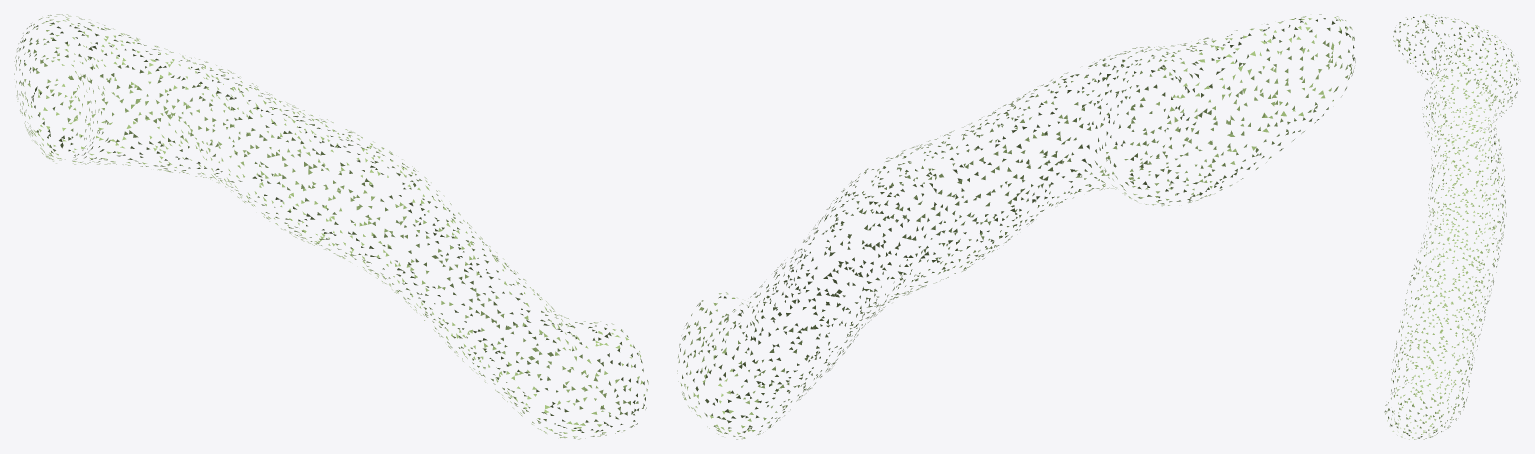
Rendered from morph_012.glb.
The picture shows the model from 3 angles, left to right: view 1: azimuth 30°, elevation 25°; view 2: azimuth 150°, elevation 25°; view 3: azimuth 270°, elevation 25°; orthographic projection. The views are drawn at different scales.
Bounding box in the file's own units: 101 × 82.14 × 36.19.
